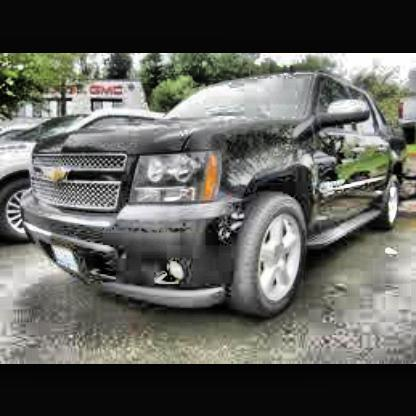Chevrolet Avalanche Crew Cab 2012: (22, 66, 410, 324)
